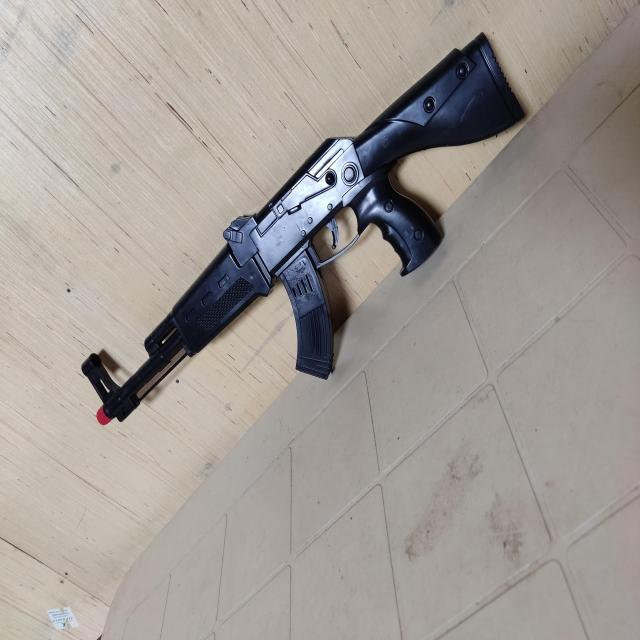rifle: (82, 31, 524, 424)
